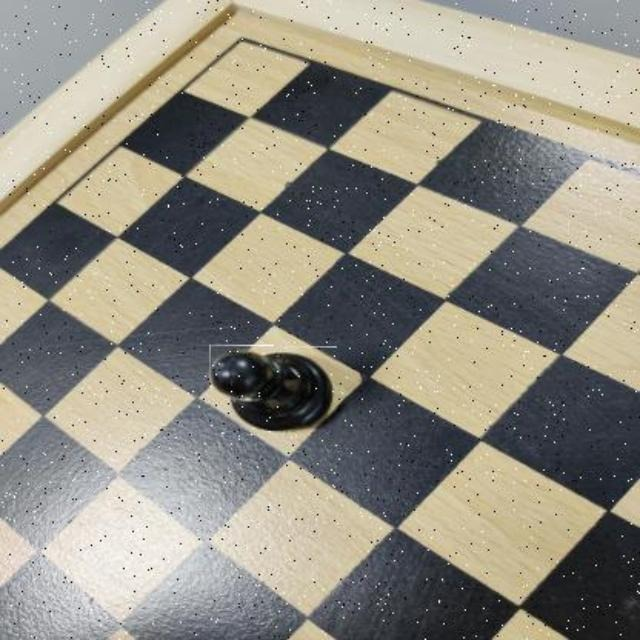black-pawn: (209, 346, 339, 430)
